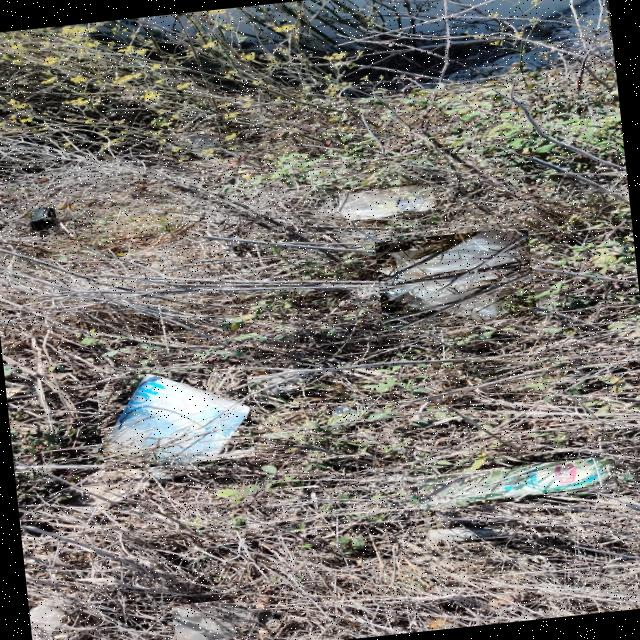Clear plastic bottle: (421, 458, 615, 509)
Disposable food container: (339, 186, 433, 220)
Other plastic: (103, 374, 250, 462)
Other plastic bottle: (171, 133, 218, 159)
Other plastic cup: (30, 208, 57, 235)
Plastic film: (379, 229, 533, 321), (172, 604, 257, 640), (30, 604, 64, 640)
Unlabeled litter: (331, 406, 357, 415)
